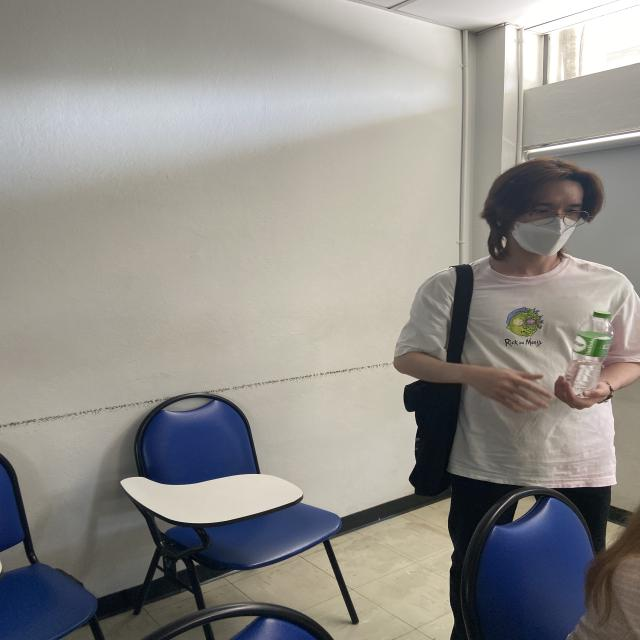bottle: (566, 310, 614, 398)
